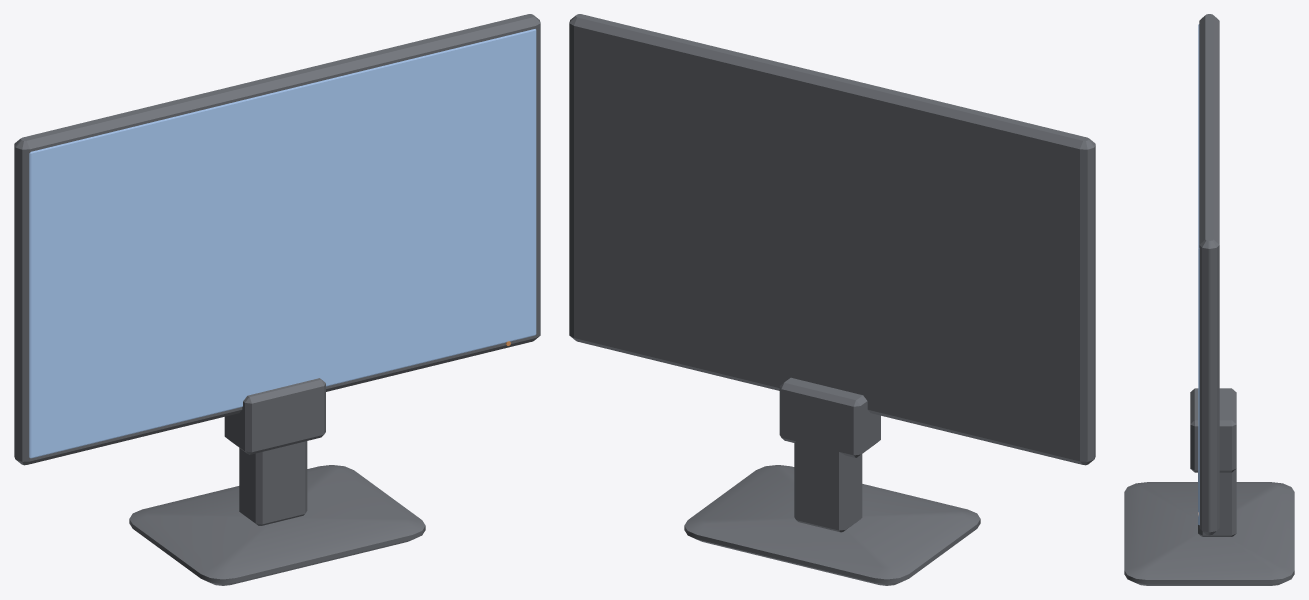
Rendered from computers-and-desk-gadgets-monitor-32-4k-89c46f3a__38832.glb.
3 renders of one model, left to right at view 1: azimuth 30°, elevation 25°; view 2: azimuth 150°, elevation 25°; view 3: azimuth 270°, elevation 25°, orthographic. The views are drawn at different scales.
Parts seen in each view (by area): view 1: monitor-32-4k; view 2: monitor-32-4k; view 3: monitor-32-4k.
Boxes of the visible parts, box(x1,y1,x2,y2) form: monitor-32-4k: box(14, 14, 540, 585); monitor-32-4k: box(569, 14, 1095, 585); monitor-32-4k: box(1124, 14, 1294, 585).
Bounding box in the file's own units: 0.71 × 0.59 × 0.22.
